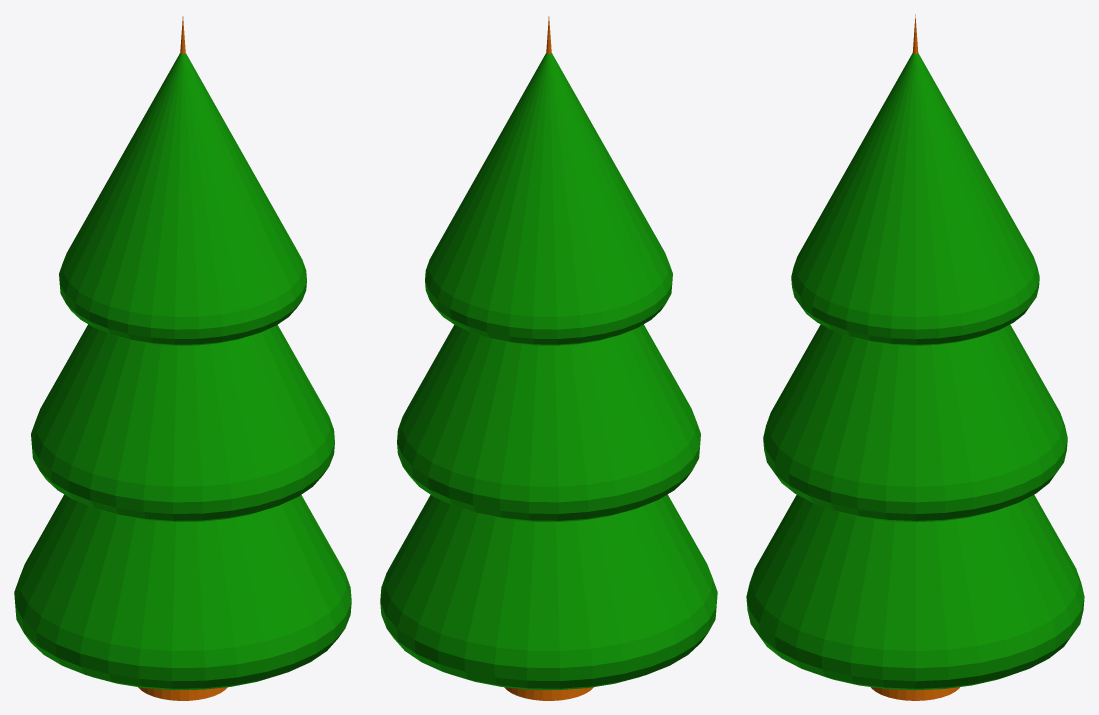
Rendered from tree.glb.
3 views of the same model, side by side, from view 1: azimuth 30°, elevation 25°; view 2: azimuth 150°, elevation 25°; view 3: azimuth 270°, elevation 25° (orthographic).
Visible parts, largest first — view 1: Cone_0; view 2: Cone_0; view 3: Cone_0.
Part boxes in pixels (box(x1,y1,x2,y2)): Cone_0: box(14, 16, 351, 700); Cone_0: box(380, 16, 717, 700); Cone_0: box(746, 14, 1084, 700).
Size of the model in its own units: 1.31 by 2.85 by 1.31.
